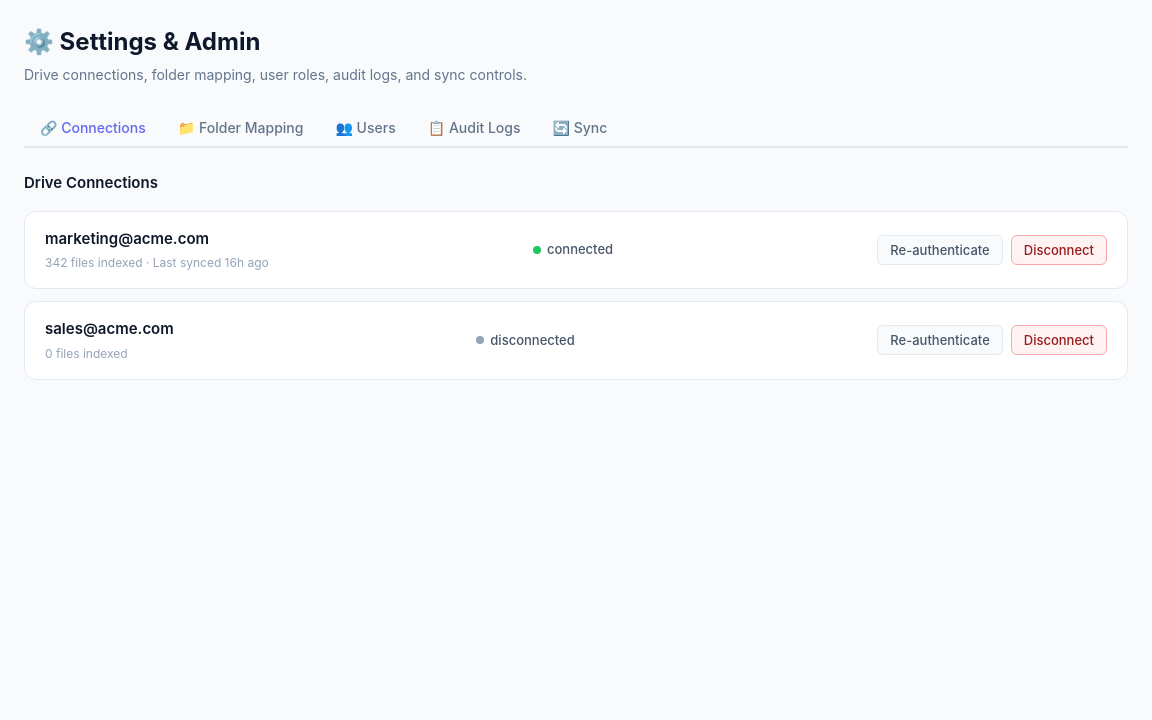
Scenario: Settings page › folder mapping tab › switches to folder mapping tab
The width and height of the screenshot is (1152, 720).
Click the tab with test id "tab-folders" at (241, 128), box [162,109,319,148]
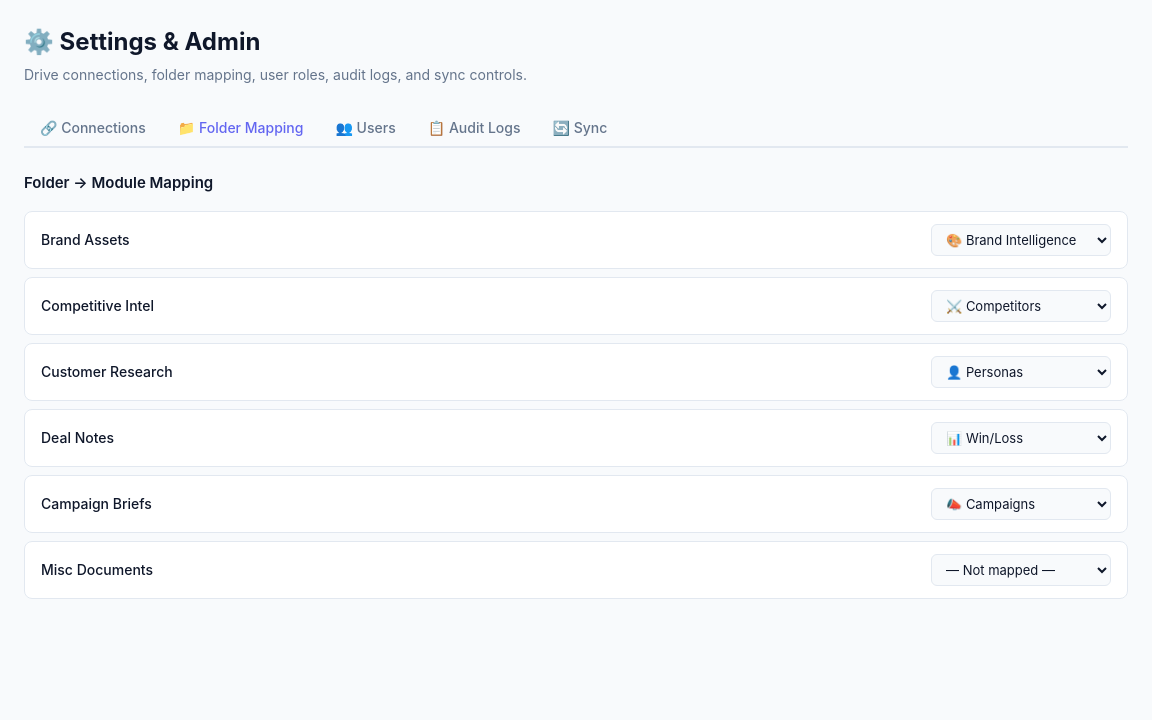
Expected: the element with test id "tab-content-folders" is shown, [24,172,1128,598]
